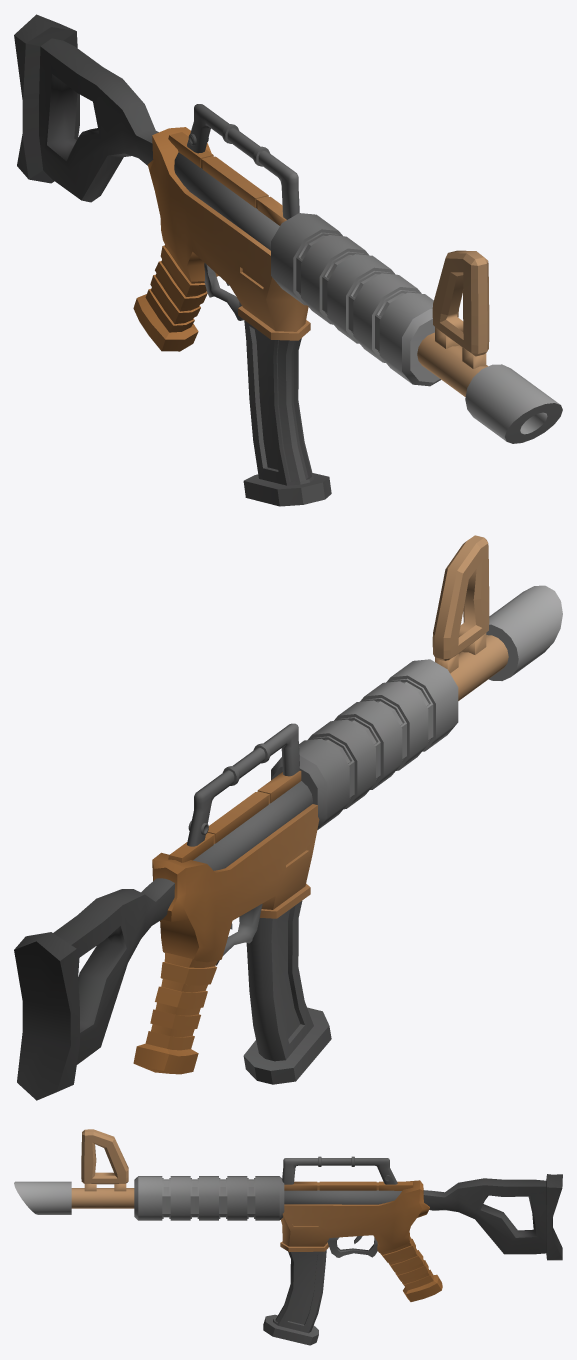
3 views of the same model, one above another, from view 1: azimuth 30°, elevation 25°; view 2: azimuth 150°, elevation 25°; view 3: azimuth 270°, elevation 25° (orthographic). The views are drawn at different scales.
Visible parts, largest first — view 1: M4, M4.Magazine; view 2: M4, M4.Magazine; view 3: M4, M4.Magazine.
Part boxes in pixels (box(x1,y1,x2,y2)): M4: box(14, 14, 562, 443); M4.Magazine: box(243, 320, 331, 506); M4: box(14, 535, 562, 1100); M4.Magazine: box(243, 901, 331, 1084); M4: box(14, 1129, 562, 1301); M4.Magazine: box(263, 1250, 326, 1345).
Bounding box in the file's own units: 0.0712 × 1.1 × 0.4639.
